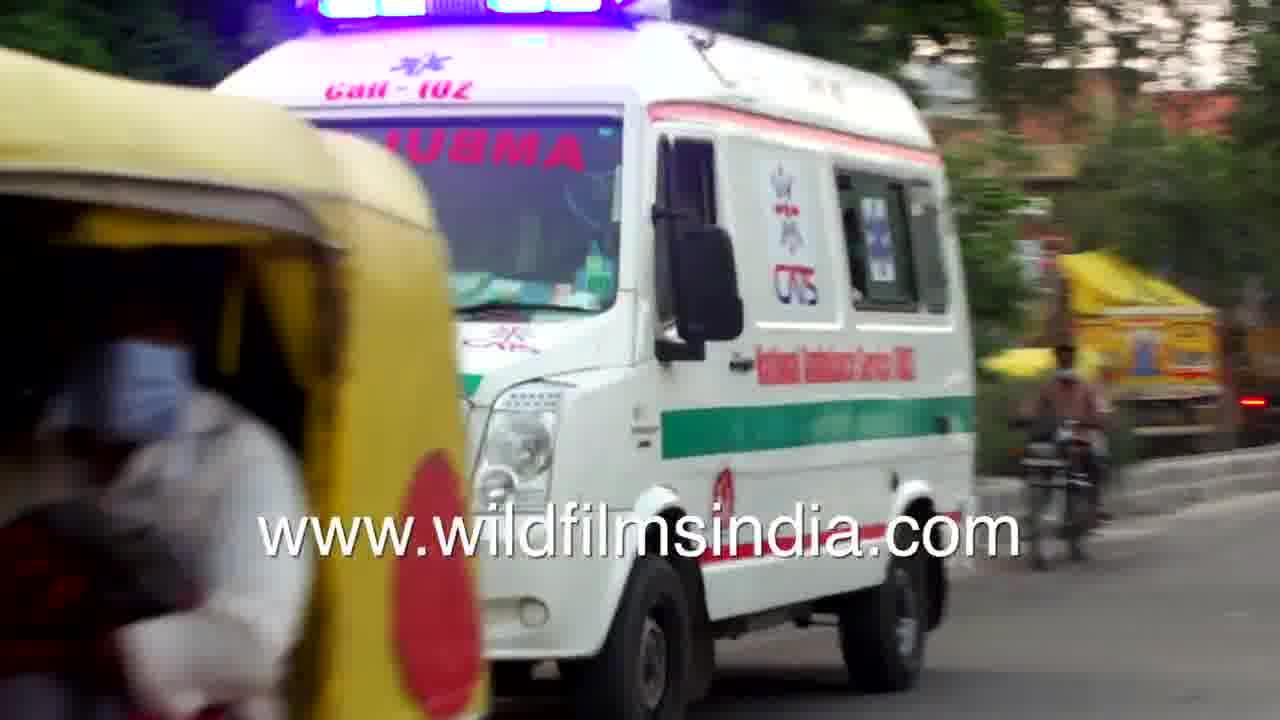AMBULANCE: (451, 128, 1040, 525), (199, 8, 1003, 111)
